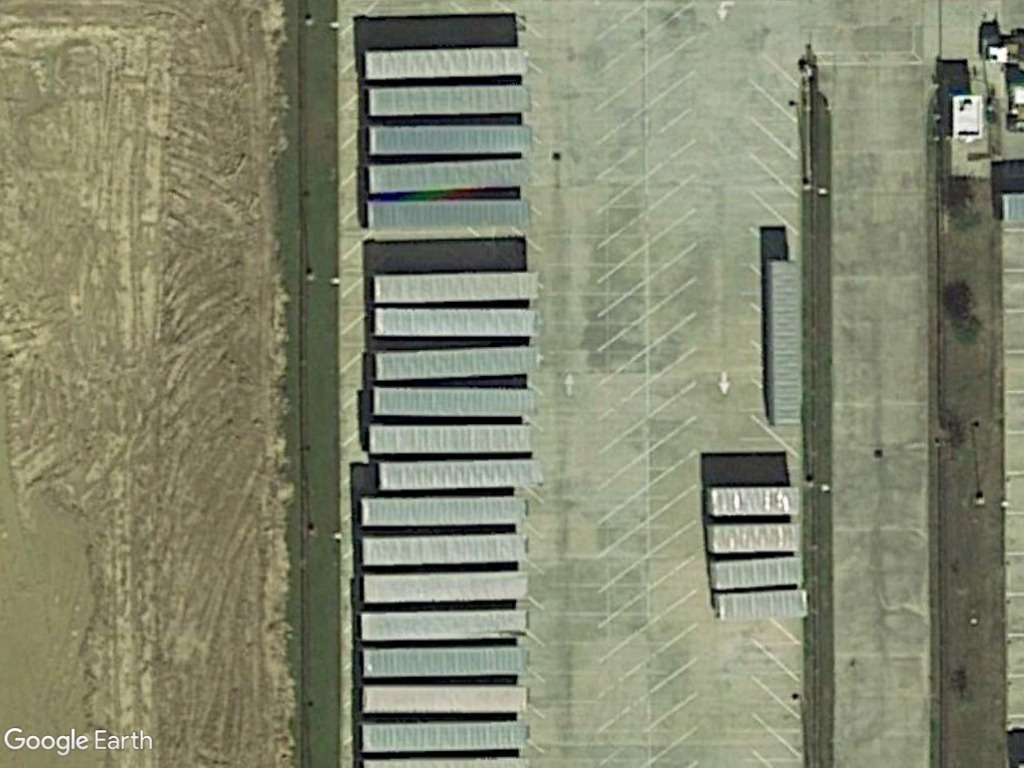longvehicle: (365, 336, 545, 394), (359, 523, 535, 575), (364, 188, 539, 240), (357, 599, 535, 650), (370, 296, 547, 347), (368, 261, 544, 311), (359, 40, 536, 89), (353, 675, 535, 722), (359, 116, 536, 164), (354, 488, 535, 534), (762, 250, 807, 432), (357, 565, 534, 611), (364, 151, 536, 198), (359, 75, 536, 120), (364, 417, 540, 462), (369, 453, 549, 497), (362, 641, 538, 685), (353, 713, 534, 755), (365, 382, 542, 424)
